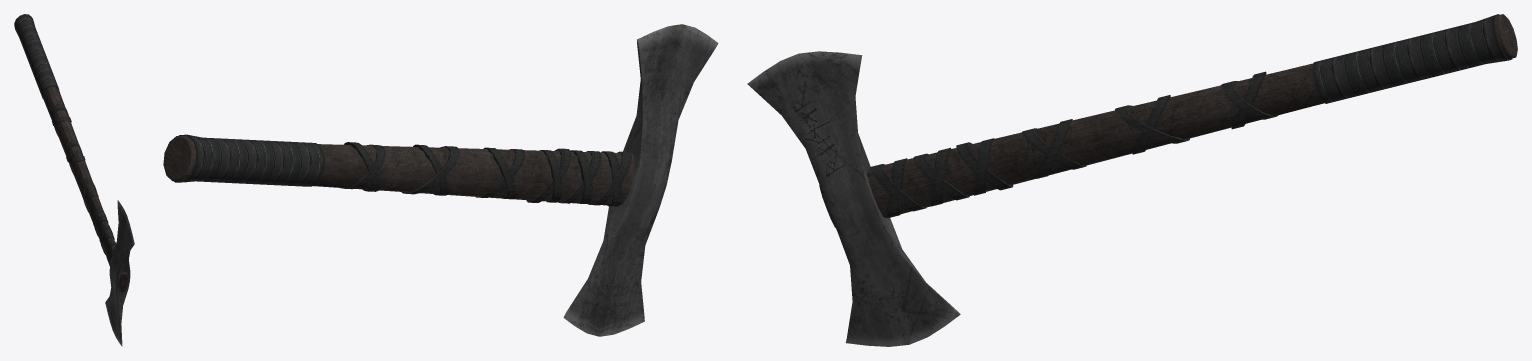
File: axe.obj
The picture shows the model from 3 angles, left to right: view 1: azimuth 30°, elevation 25°; view 2: azimuth 150°, elevation 25°; view 3: azimuth 270°, elevation 25°; orthographic projection. The views are drawn at different scales.
Parts seen in each view (by area): view 1: Axe_Mesh; view 2: Axe_Mesh; view 3: Axe_Mesh.
Part boxes in pixels (x1,y1,x2,y2): Axe_Mesh: [14, 14, 134, 346]; Axe_Mesh: [163, 24, 718, 336]; Axe_Mesh: [747, 14, 1517, 346].
Size of the model in its own units: 1.19 by 2.56 by 4.55.
Materials: 1 (1 with a texture image).
